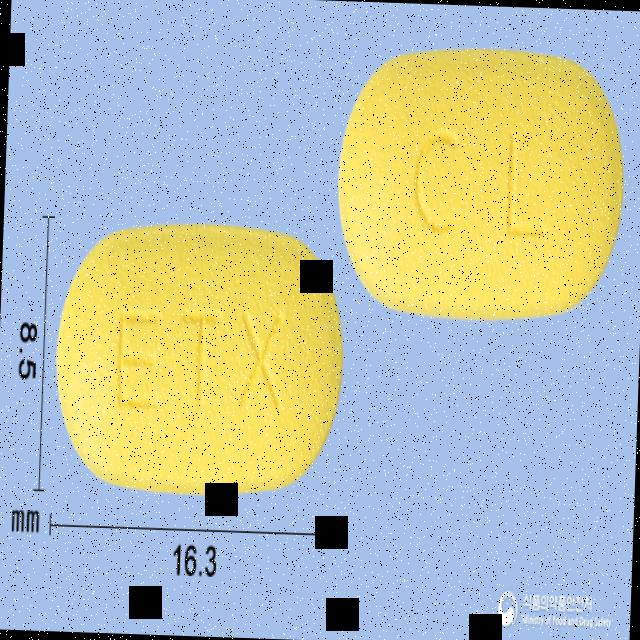Clarosin: (331, 39, 630, 328), (49, 217, 350, 501)
